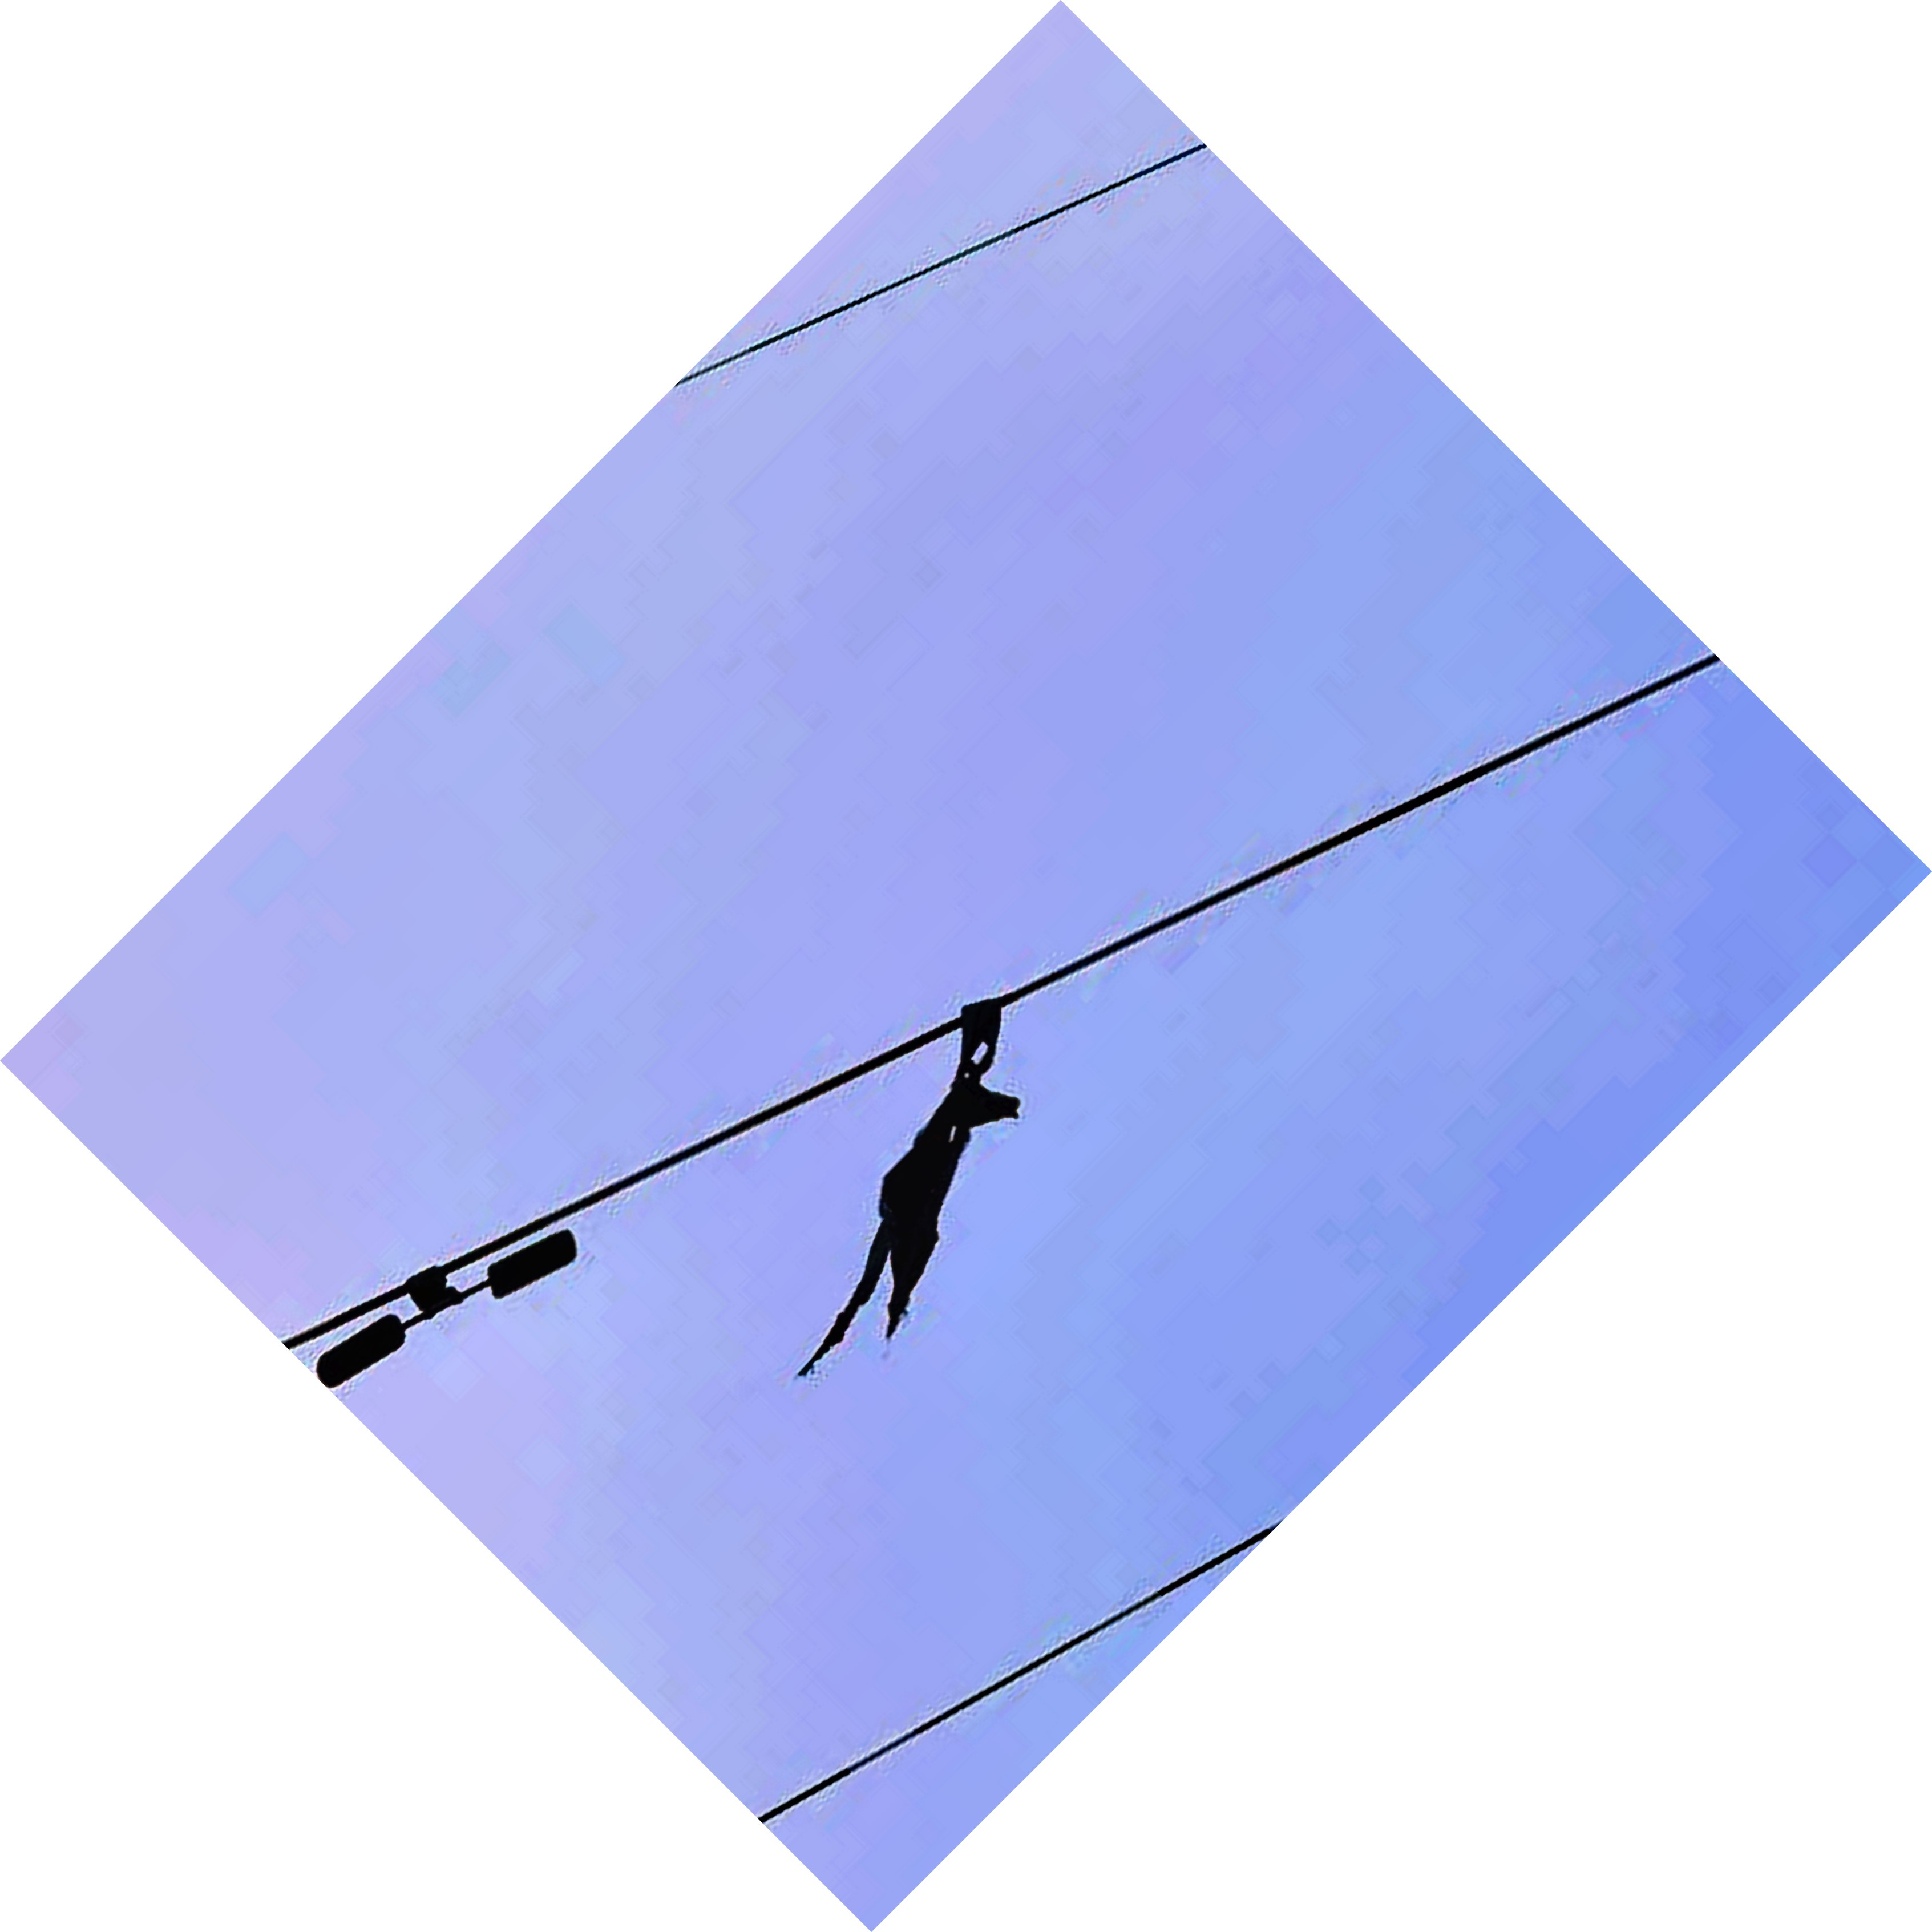wire foreign body: (786, 973, 1046, 1394)
